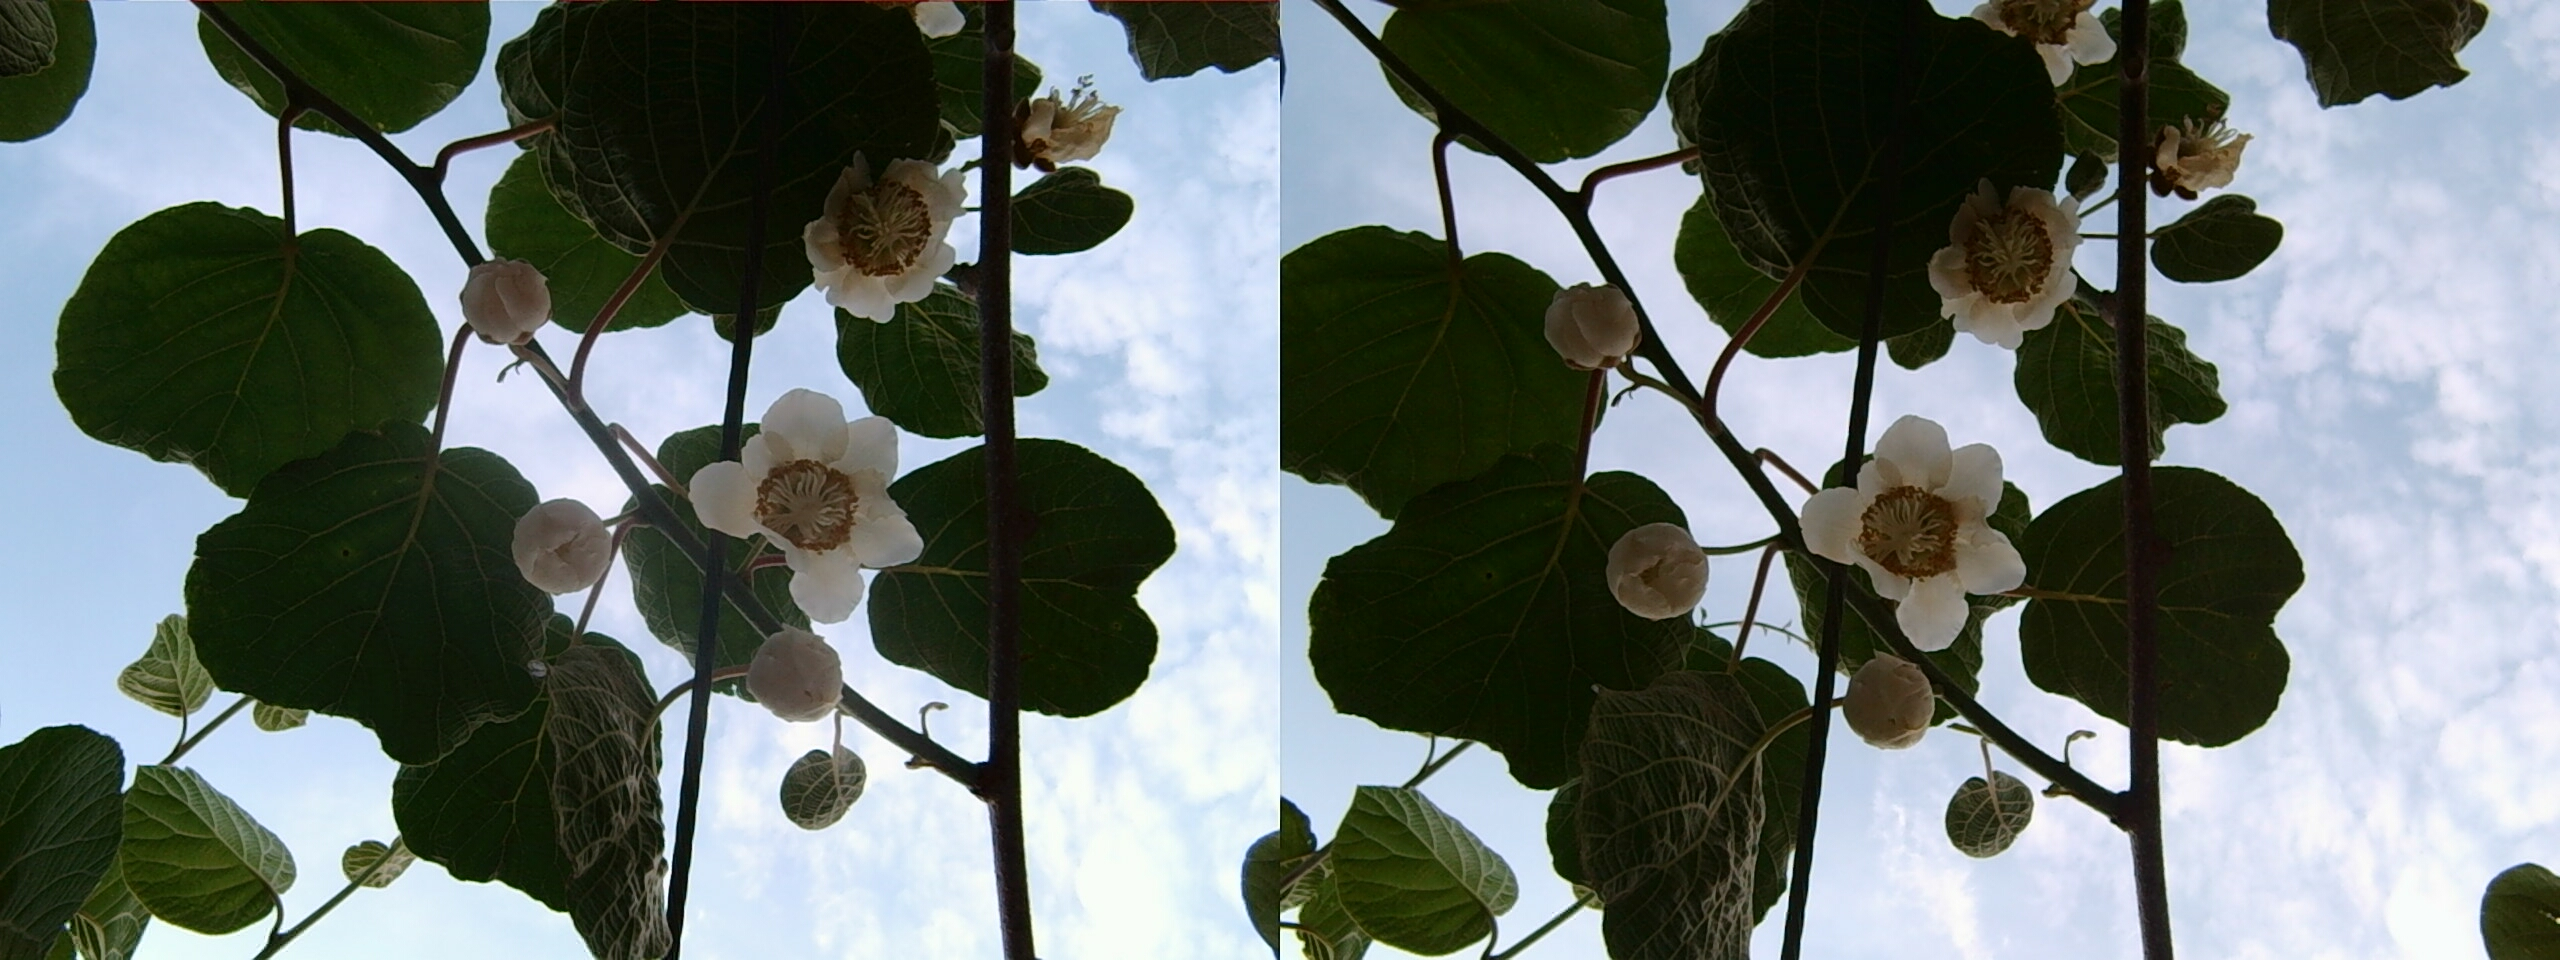flower: (696, 379, 916, 620), (1802, 408, 2021, 633), (1918, 158, 2090, 344), (800, 139, 968, 315)
